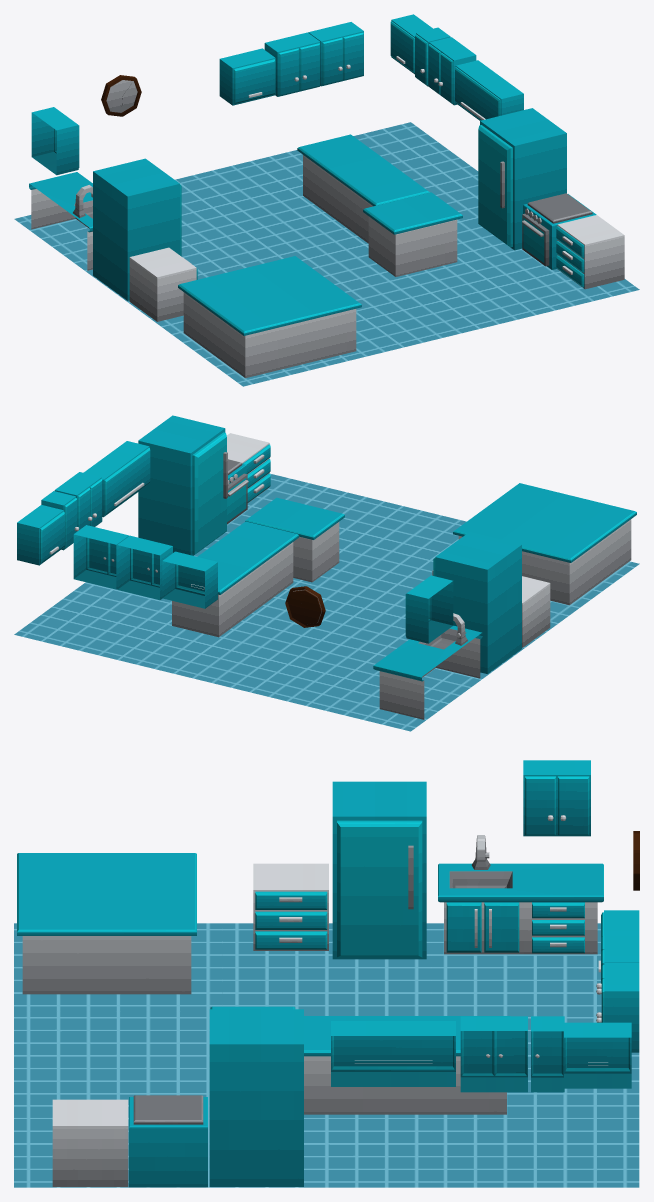
The model's file is s1_Kitchen_v3.fbx.
3 renders of one model, top to bottom at view 1: azimuth 30°, elevation 25°; view 2: azimuth 150°, elevation 25°; view 3: azimuth 270°, elevation 25°, orthographic. The views are drawn at different scales.
Visible parts, largest first — view 1: s1_Kitchen_v3; view 2: s1_Kitchen_v3; view 3: s1_Kitchen_v3.
Part boxes in pixels (<box>): s1_Kitchen_v3: <box>14,14,639,386</box>; s1_Kitchen_v3: <box>14,415,639,731</box>; s1_Kitchen_v3: <box>14,760,639,1187</box>.
Size of the model in its own units: 900 by 260 by 901.
